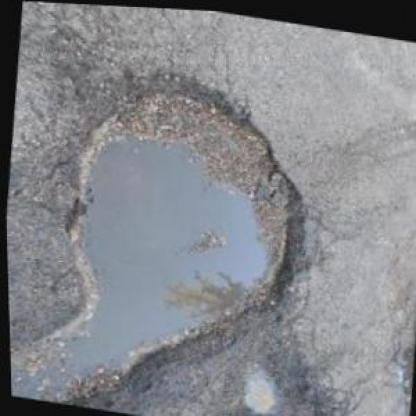pothole: (43, 53, 330, 391)
